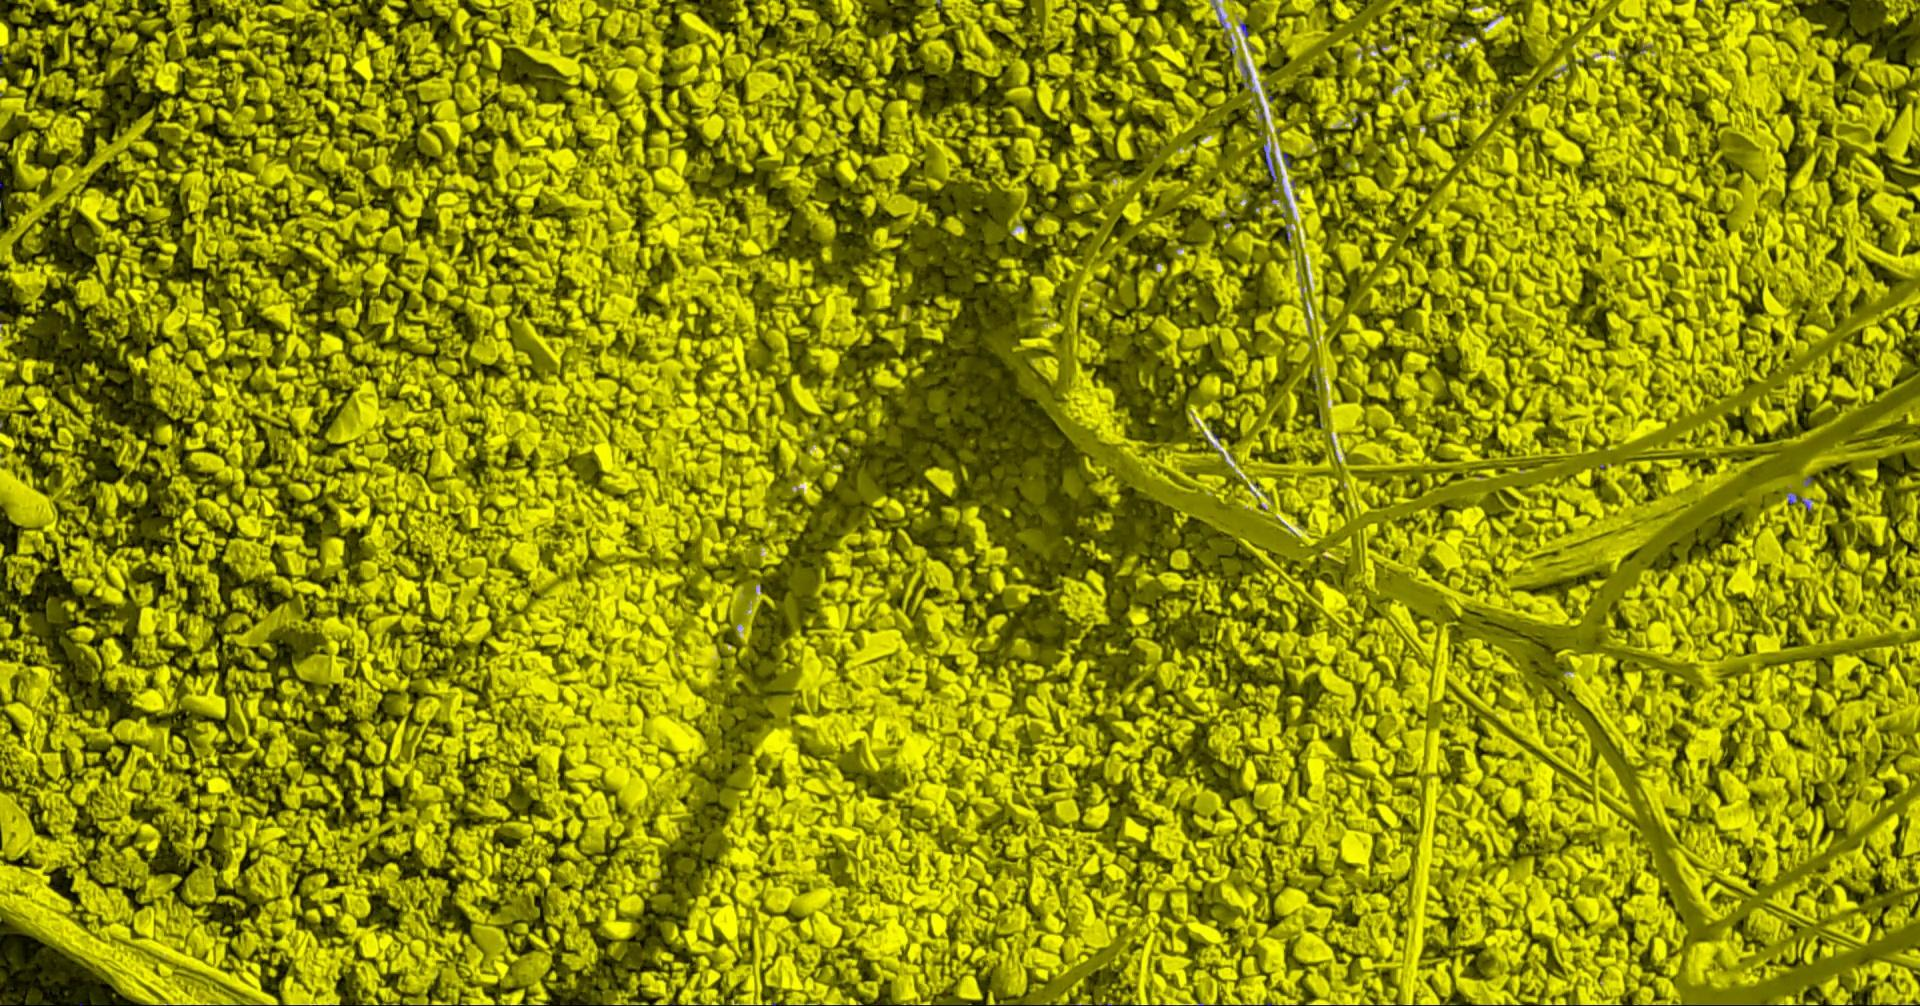ant: (1262, 145, 1277, 180)
